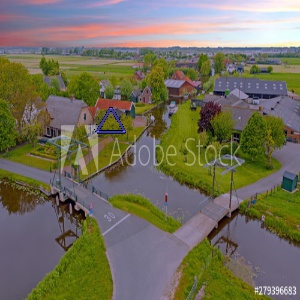triangle: (93, 104, 127, 136)
